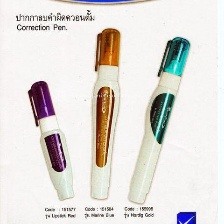correction_fluid: (125, 34, 193, 205), (84, 26, 123, 201), (24, 78, 75, 203)
